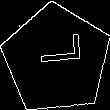L_W: (31, 41, 82, 77)
